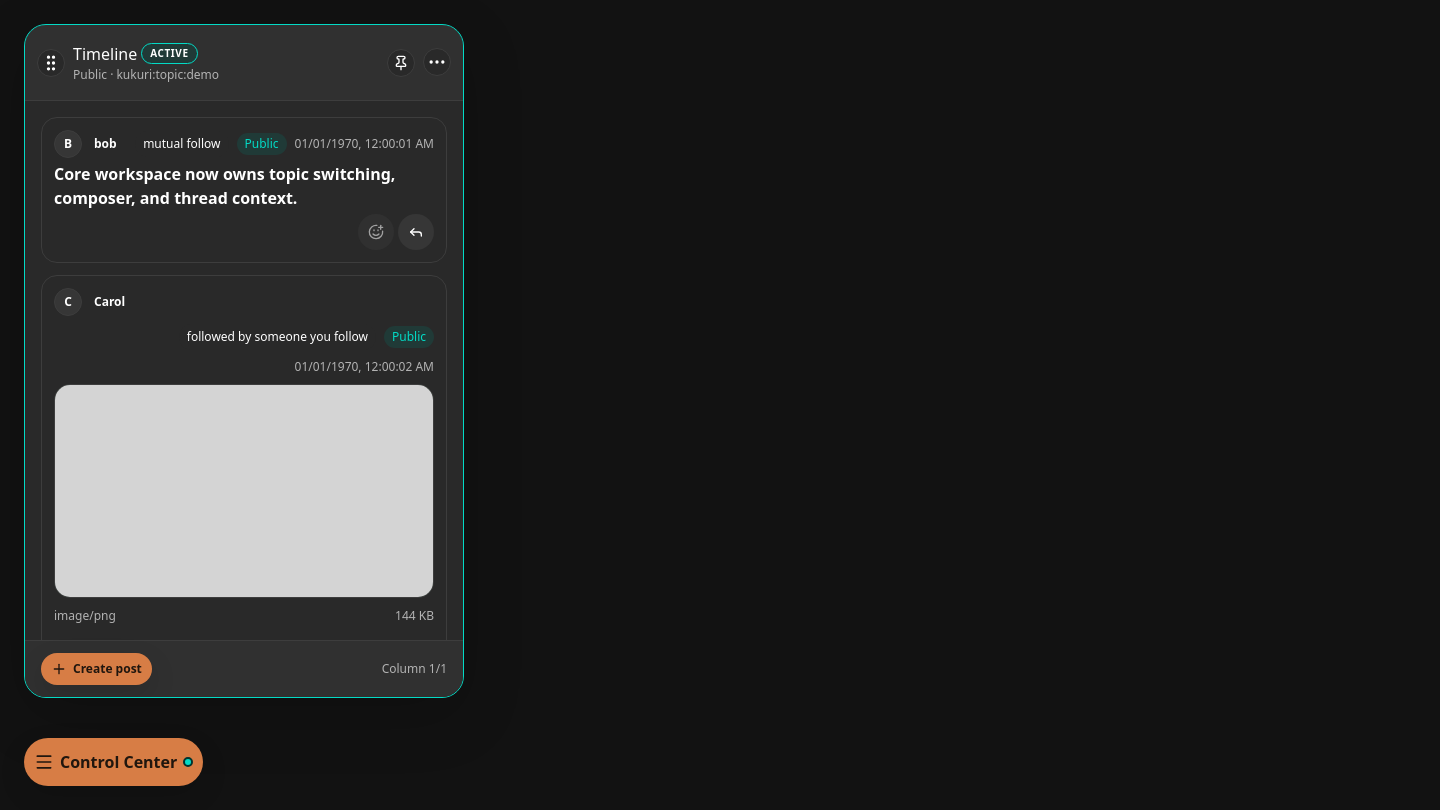
Scenario: VariableSpanColumnWorkspacePrototype › keeps drag, menu reorder, primary action, and Control Center keyboard reachable
Press Tab
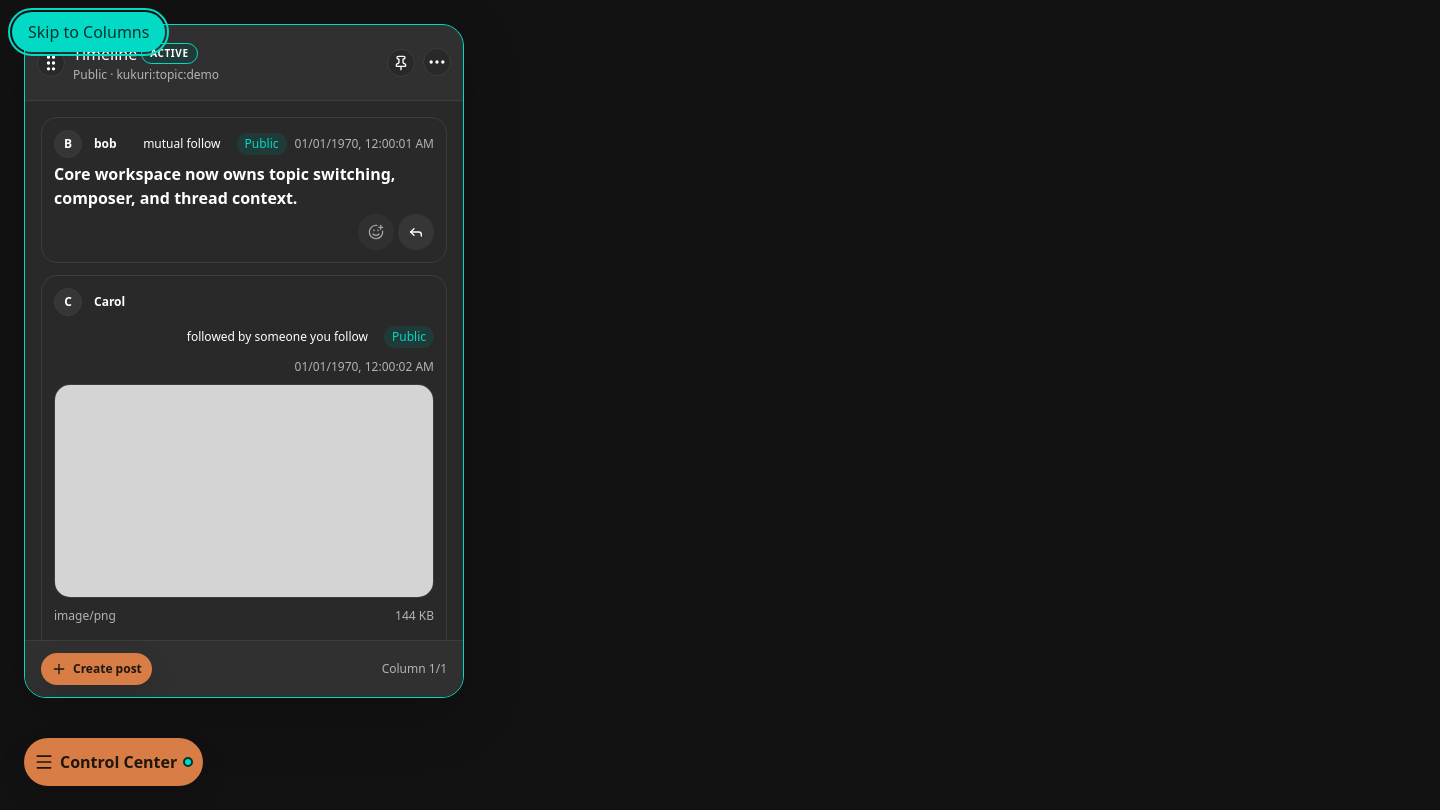
Press Tab
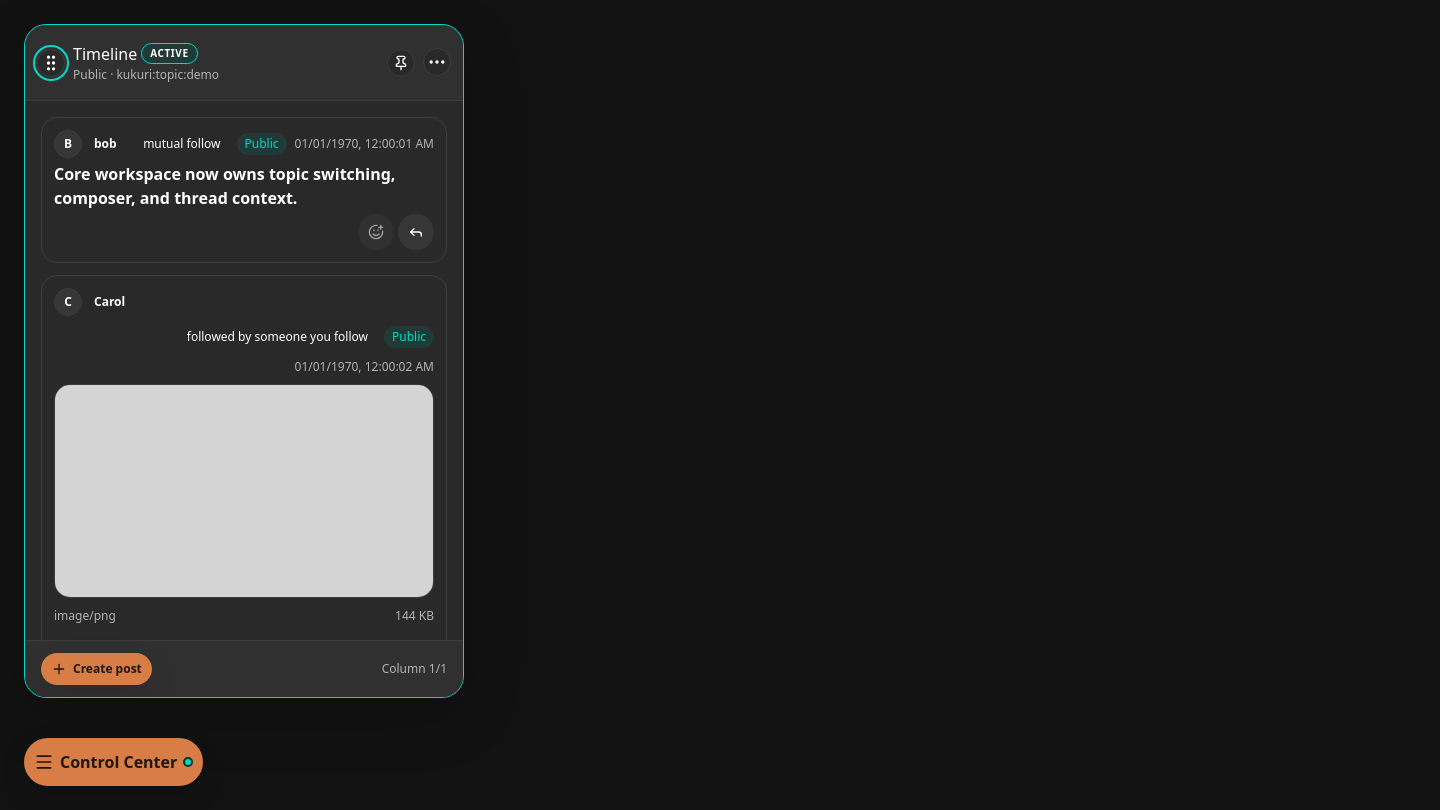
Click the button named "Open Timeline menu" at (437, 62), box x1=423 y1=48 x2=451 y2=76
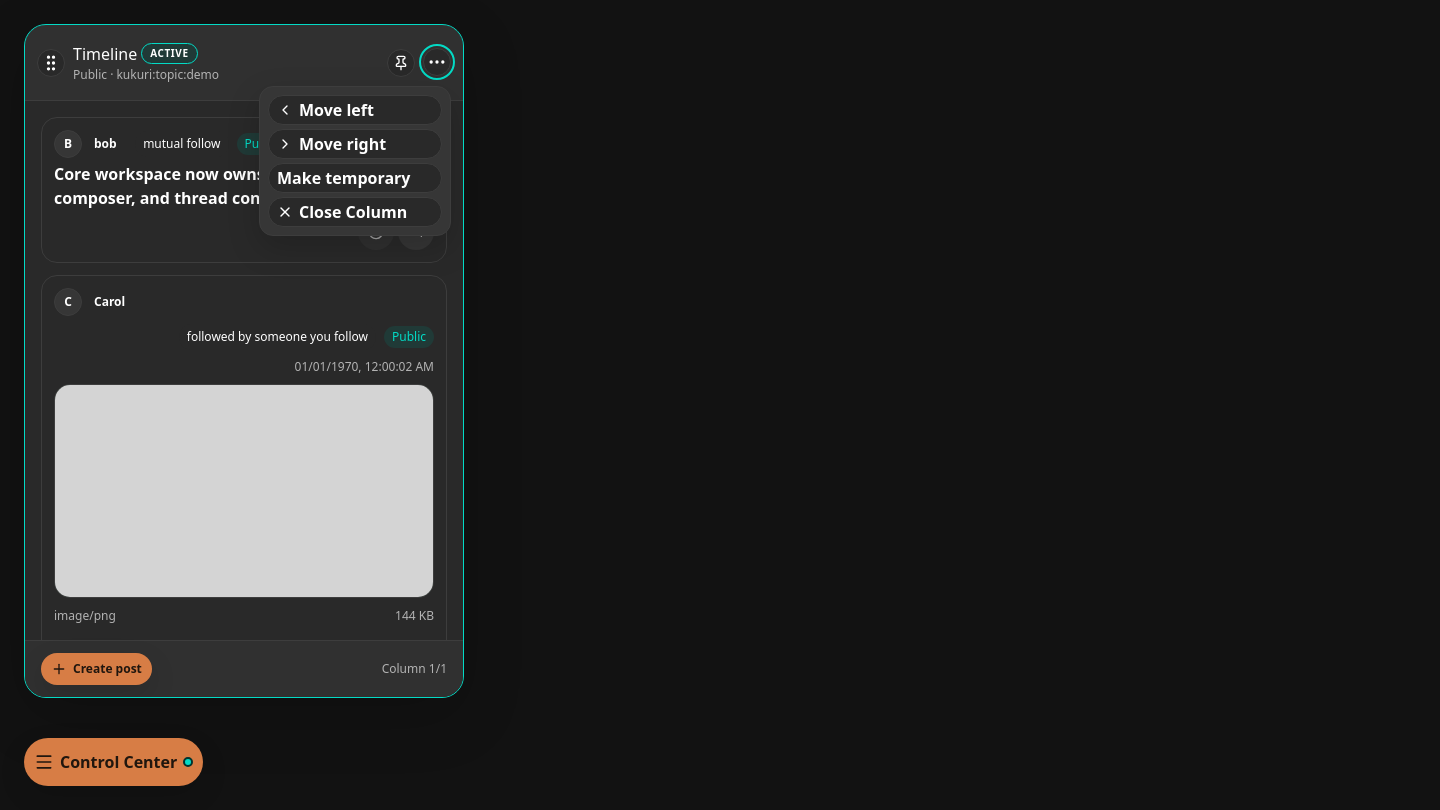
Expected: the button with aria-label "Create post in Public · kukuri:topic:demo" is shown, x1=41 y1=653 x2=152 y2=685
Now the menu item "Move left" is shown, box x1=268 y1=94 x2=442 y2=124
Now the menu item "Move right" is shown, box x1=268 y1=128 x2=442 y2=158
Click the button with aria-label "Open Control Center" at (114, 762), box x1=24 y1=738 x2=203 y2=786
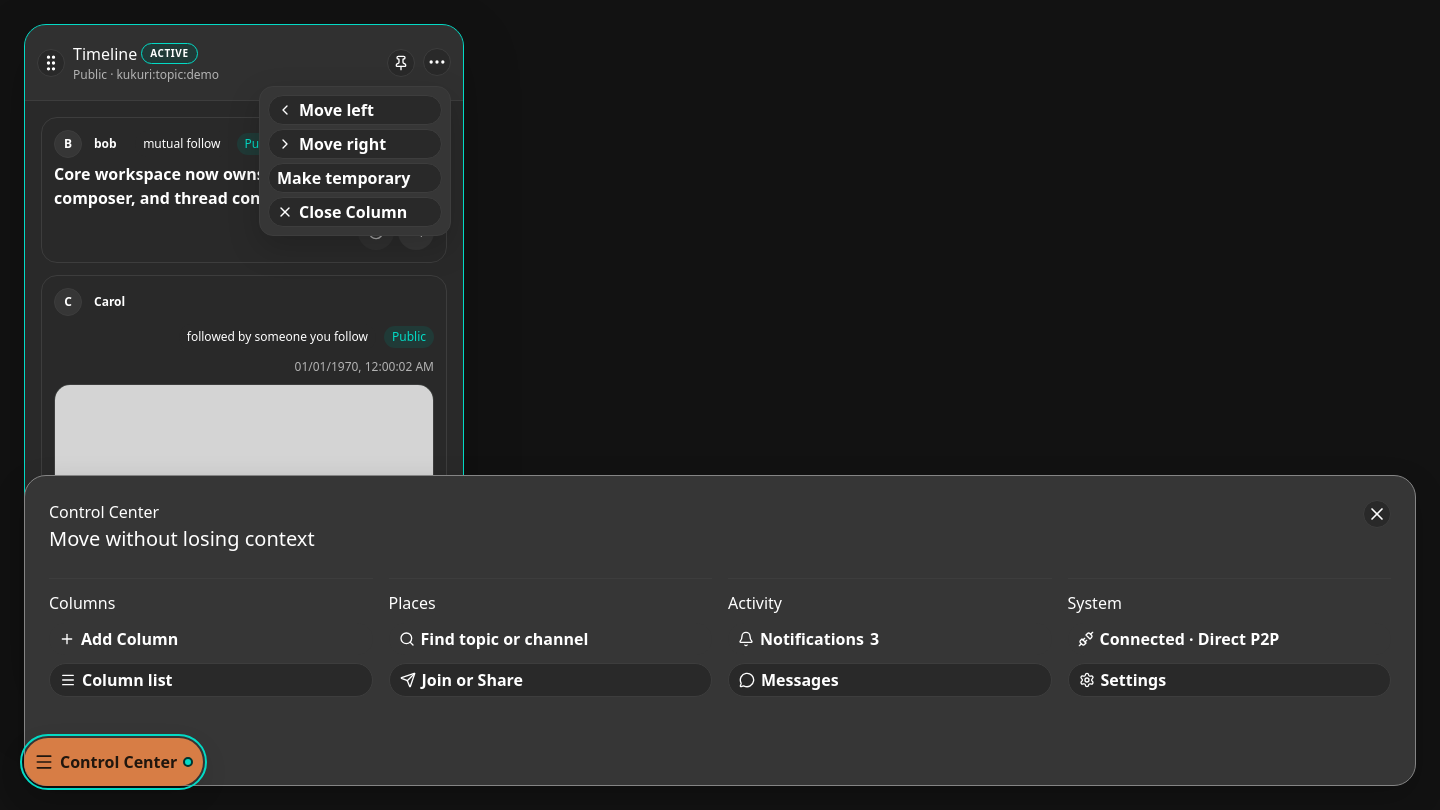
Now the button with aria-label "Open Control Center" is expanded, box x1=24 y1=738 x2=203 y2=786
Now the element "Control Center" is shown, box x1=24 y1=475 x2=1416 y2=786
Now the button "Find topic or channel" is shown, box x1=388 y1=623 x2=712 y2=655
